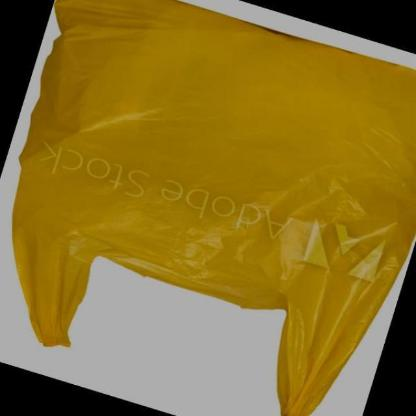Plastic Bag: (10, 0, 416, 416)
